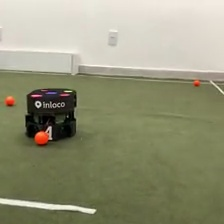ball: (33, 128, 50, 146), (4, 93, 16, 106), (194, 78, 201, 87)
goal: (1, 47, 79, 76)
robot: (22, 85, 79, 143)
